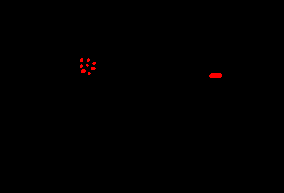Target: (209, 73, 222, 78), (81, 69, 86, 73), (91, 67, 96, 70), (80, 58, 83, 62), (87, 58, 90, 62), (92, 62, 96, 65), (80, 64, 83, 68), (86, 64, 89, 67), (88, 72, 91, 75)
